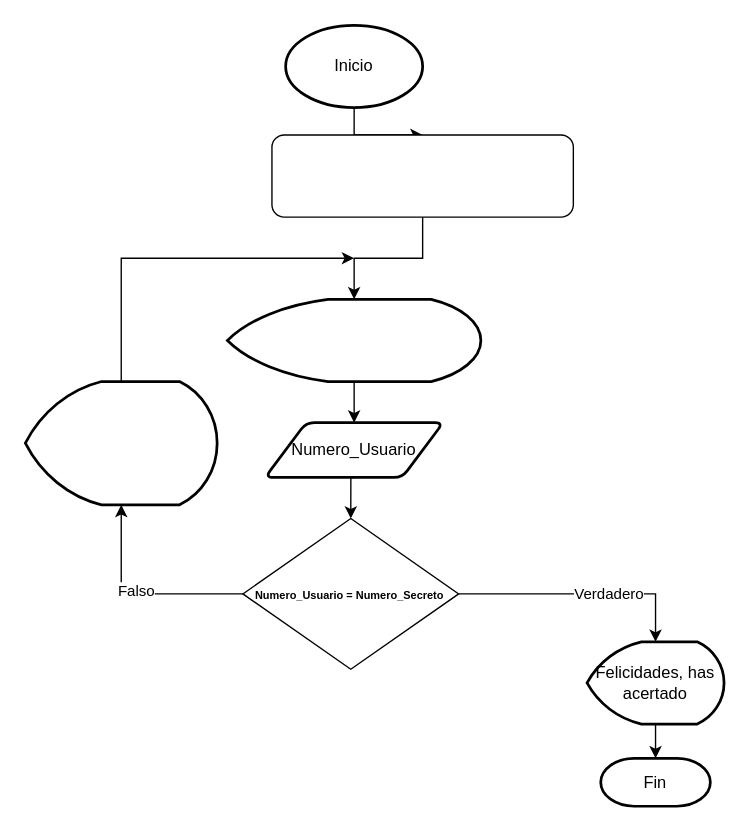
Some shapes in this 748 by 830 pixel diagram are drawn without their labels. Here are the shapes that lost their labels. From the top down, the centre of each, then its label:
At point 422,175: "Numero_Secreto = random,ranint(1,10)".
At point 353,339: "Adivina el número secreto! Ingrese un número entre 1 y 10".
At point 120,442: "Incorrecto! Favor intenta nuevamente.".
